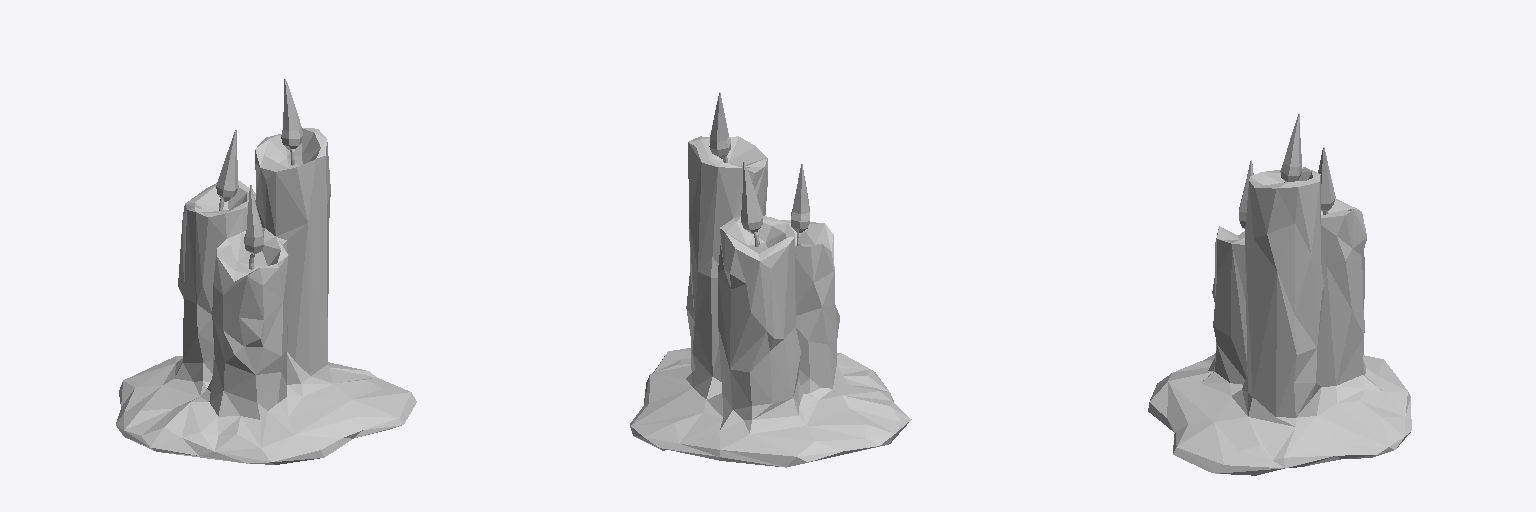
File: candle8.obj
The picture shows the model from 3 angles: view 1: azimuth 30°, elevation 25°; view 2: azimuth 150°, elevation 25°; view 3: azimuth 270°, elevation 25°; orthographic projection.
Parts seen in each view (by area): view 1: Object003, candleflame002, candleflame003, candleflame001; view 2: Object003, candleflame002, candleflame003, candleflame001; view 3: Object003, candleflame003, candleflame002.
Boxes of the visible parts, box(x1,y1,x2,y2) form: Object003: box(116, 128, 416, 464); candleflame002: box(216, 130, 238, 201); candleflame003: box(281, 79, 302, 149); candleflame001: box(244, 185, 263, 254); Object003: box(630, 136, 911, 467); candleflame002: box(741, 162, 762, 233); candleflame003: box(709, 92, 730, 158); candleflame001: box(791, 164, 809, 232); Object003: box(1148, 167, 1411, 475); candleflame003: box(1280, 114, 1301, 181); candleflame002: box(1318, 147, 1335, 211).
Size of the model in its own units: 1.05 by 1.24 by 0.9231.